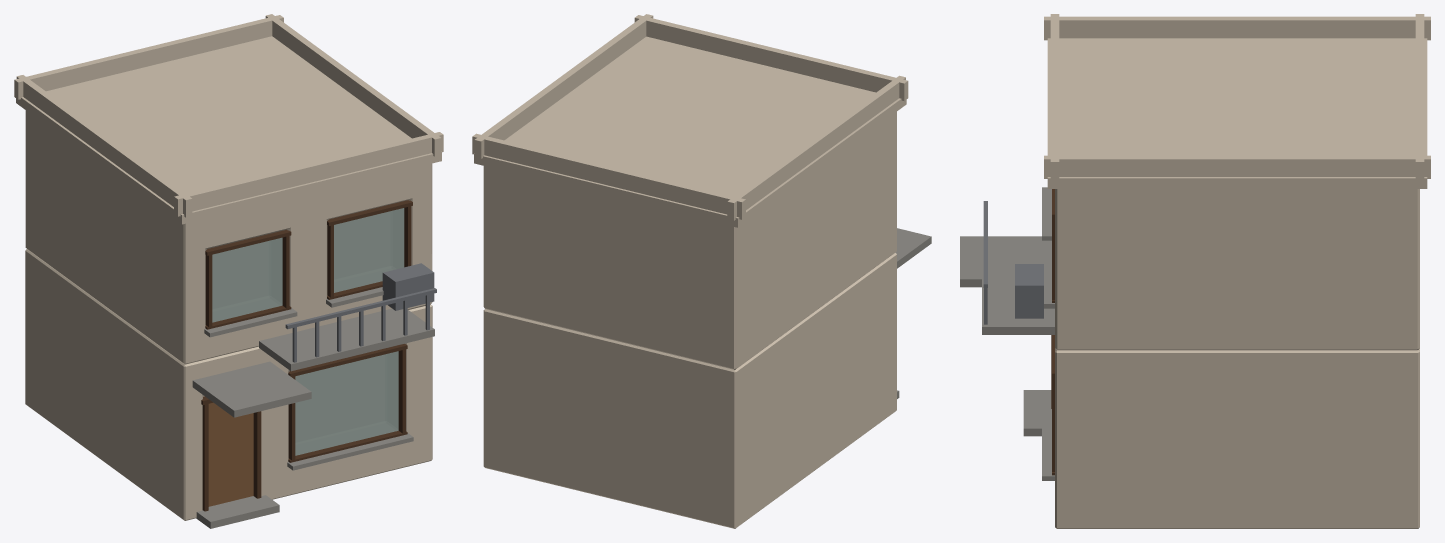
File: SM_K_HouseB_Modern.obj
The picture shows the model from 3 angles, left to right: view 1: azimuth 30°, elevation 25°; view 2: azimuth 150°, elevation 25°; view 3: azimuth 270°, elevation 25°; orthographic projection. The views are drawn at different scales.
Parts seen in each view (by area): view 1: SM_K_HouseB_Modern; view 2: SM_K_HouseB_Modern; view 3: SM_K_HouseB_Modern.
Boxes of the visible parts, bbox=[...] form: SM_K_HouseB_Modern: bbox=[14, 14, 443, 528]; SM_K_HouseB_Modern: bbox=[472, 14, 931, 528]; SM_K_HouseB_Modern: bbox=[960, 14, 1430, 528].
Size of the model in its own units: 4.8 by 5.63 by 6.45.
